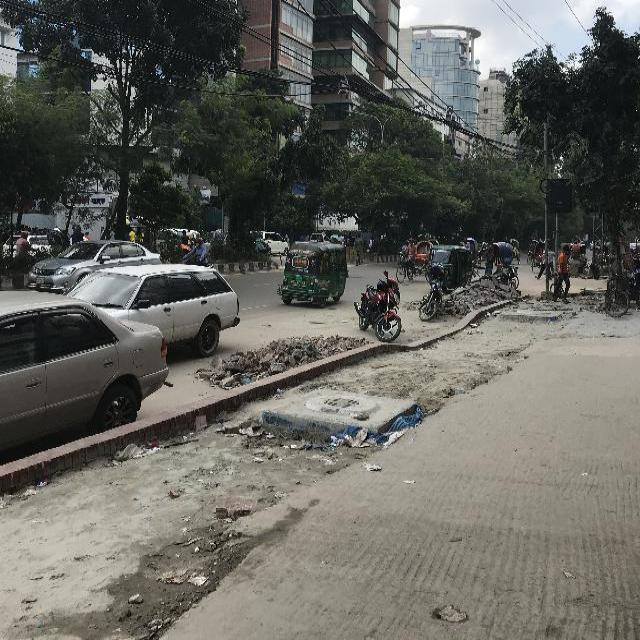bicycle: (604, 270, 628, 318), (549, 270, 563, 298)
car: (2, 287, 170, 451), (70, 272, 244, 359), (31, 238, 159, 298), (4, 232, 54, 256), (255, 229, 289, 254)
motorbike: (353, 270, 403, 339), (421, 265, 444, 318), (179, 237, 215, 266), (502, 258, 518, 288), (256, 233, 268, 257), (396, 240, 406, 263)
rickshaw: (471, 241, 513, 281), (396, 239, 430, 281), (46, 228, 78, 252), (462, 236, 482, 273), (572, 244, 592, 274), (532, 242, 550, 272), (508, 238, 520, 262), (526, 240, 538, 263), (329, 234, 341, 242)
three wheelers -CNG-: (277, 241, 349, 307)
